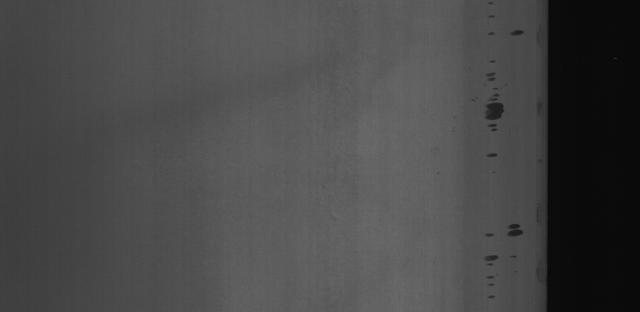oil_spot: (478, 0, 508, 163), (481, 222, 534, 305), (507, 18, 528, 42)
